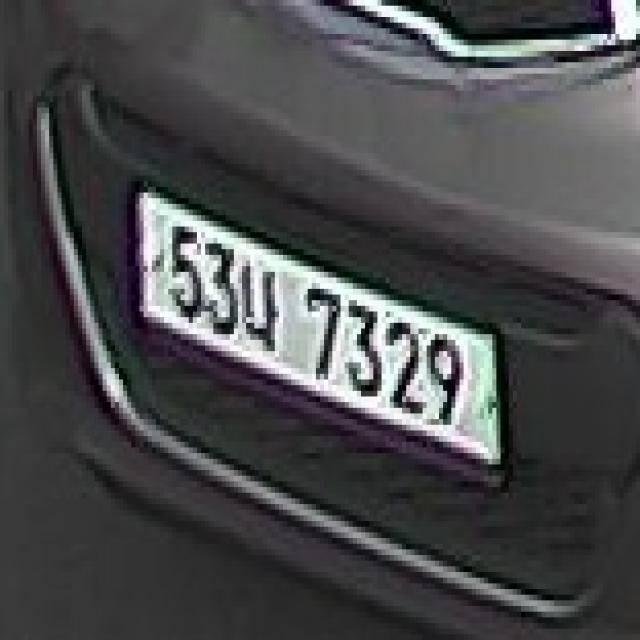2: (378, 317, 427, 419)
3: (340, 295, 386, 402), (201, 232, 238, 340)
5: (164, 221, 201, 323)
7: (296, 283, 344, 380)
9: (418, 328, 476, 425)
license_plate: (123, 176, 505, 487)
na: (234, 244, 279, 351)
